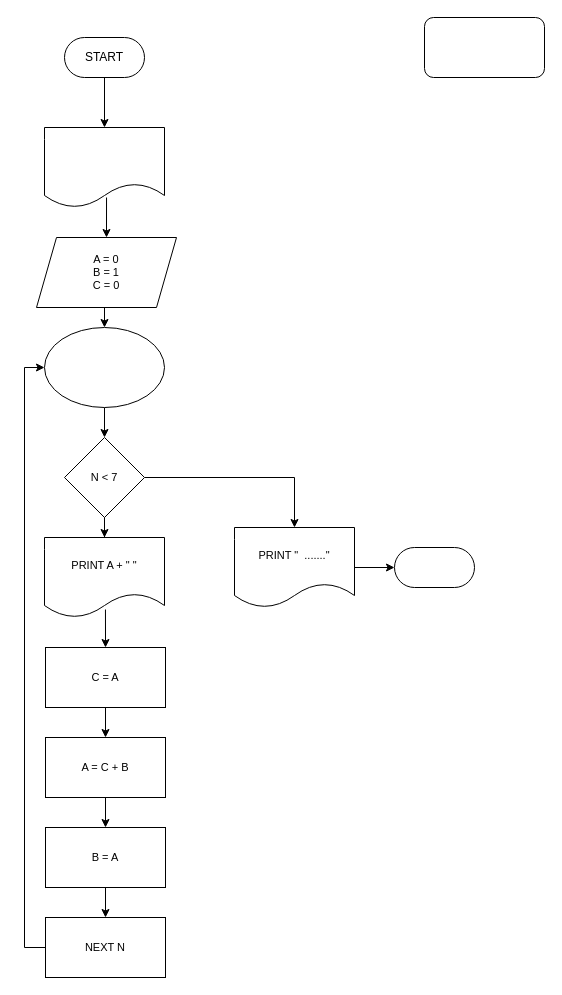
Image size: 562x995. Some labels were removed from this diagram. Here are the shapes that lost their labels. From the top down, the box of each, then its label:
(424, 16, 544, 78): SOAL 2
(44, 126, 164, 208): PRINT "Jadi Barisan Fibonacci adalah : "
(44, 326, 164, 408): FOR N 1 TO 7
(394, 546, 474, 588): END
